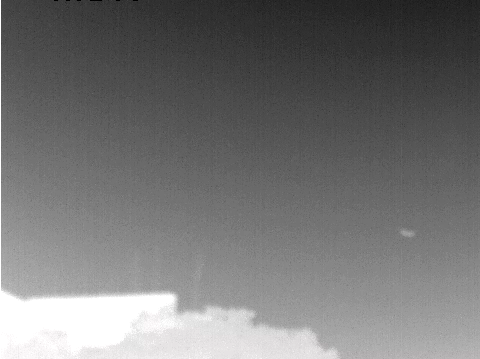dim target: (393, 221, 420, 244)
